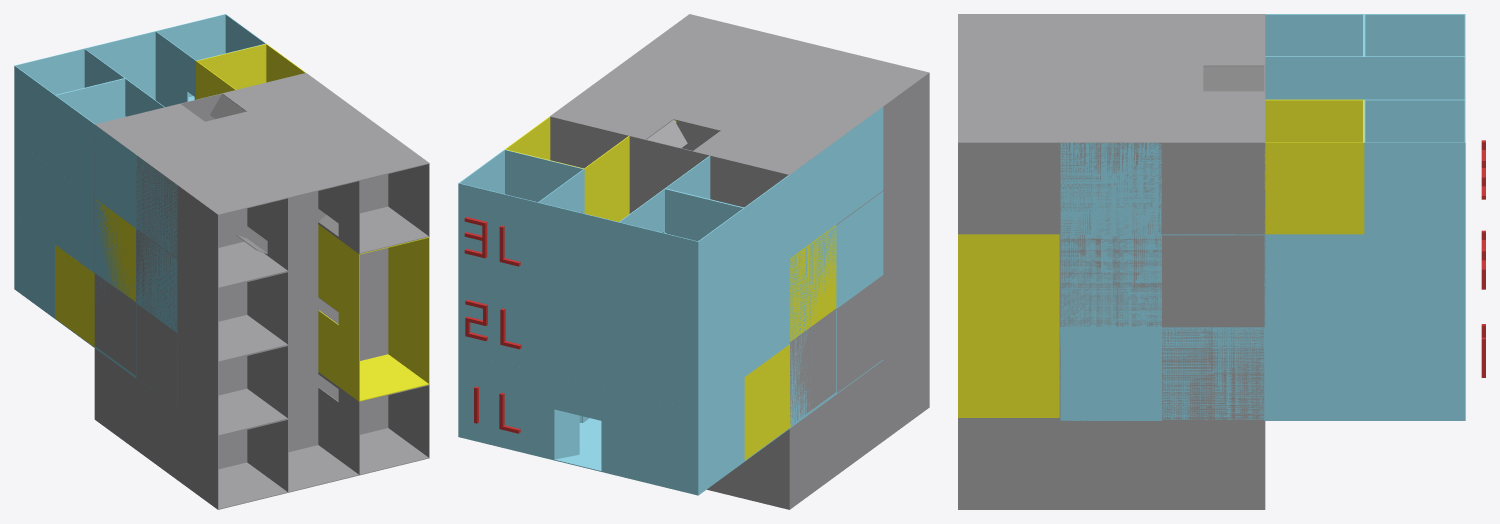
Rendered from 第五组.glb.
3 renders of one model, left to right at view 1: azimuth 30°, elevation 25°; view 2: azimuth 150°, elevation 25°; view 3: azimuth 270°, elevation 25°, orthographic. The views are drawn at different scales.
Bounding box in the file's own units: 0.015 × 0.0202 × 0.026.
